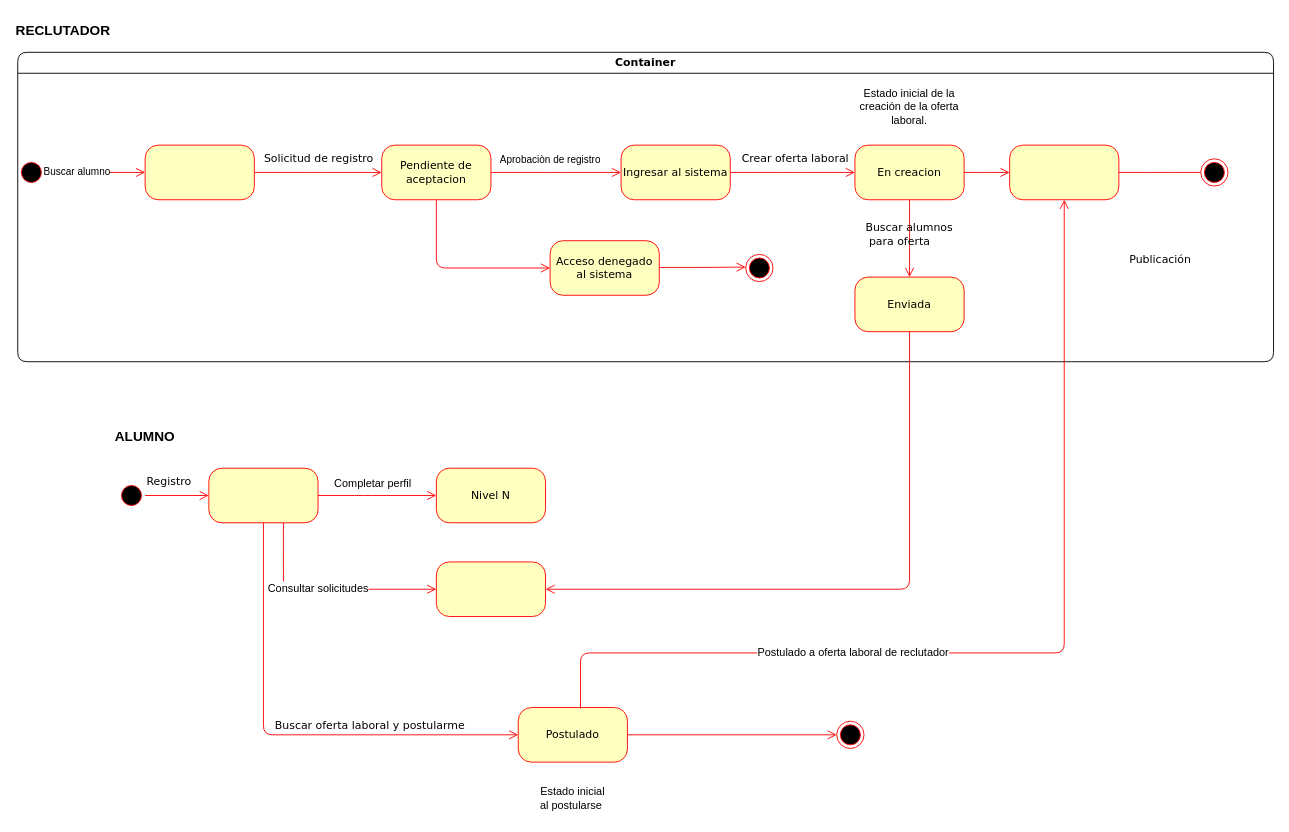
Some shapes in this 1289 by 832 pixel diagram are drawn without their labels. Each missing label, with the centre of its shape:
"Creada" goes at [1064,172].
"Logueo en el sistema" goes at [263,495].
"Pendiente de aprobación" goes at [490,589].
"Registrarse" goes at [199,172].
